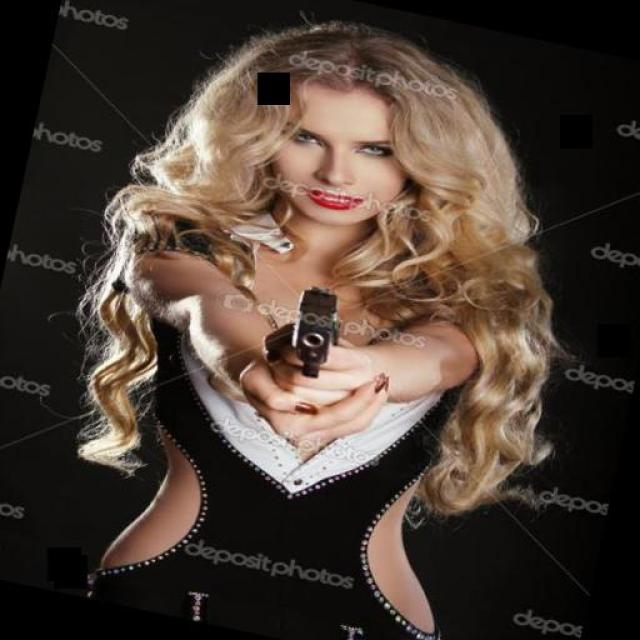gun: (260, 266, 361, 392)
